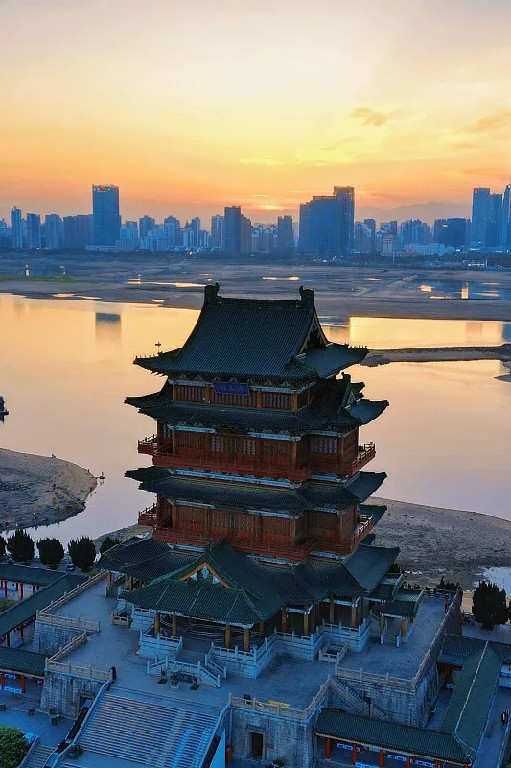Teng: (124, 282, 389, 565)
